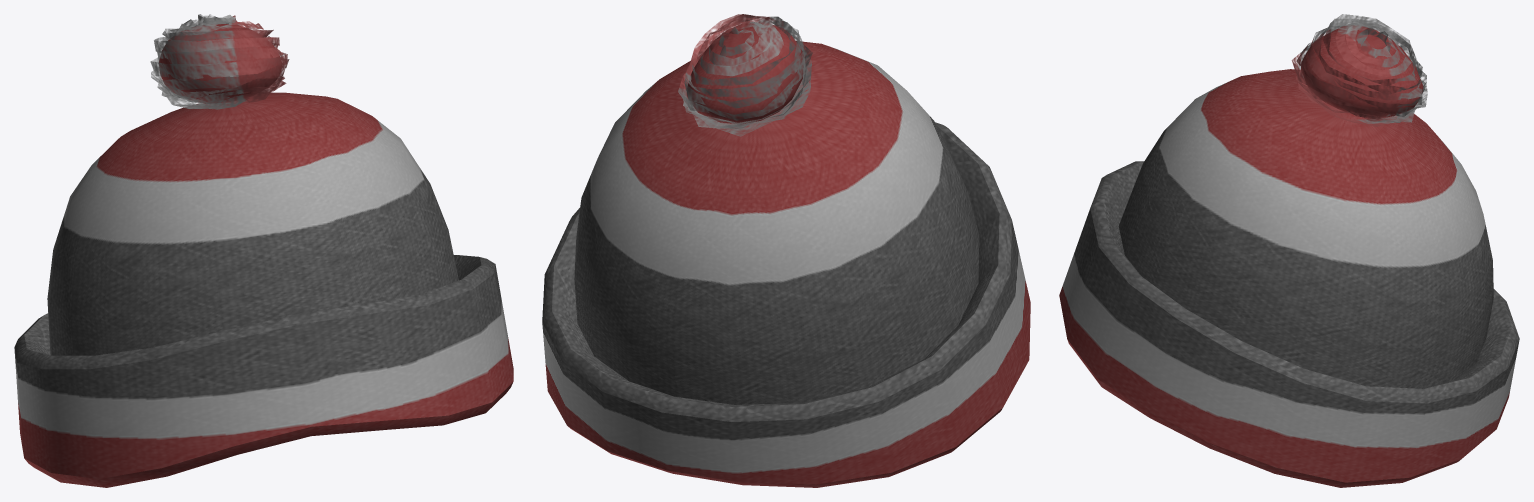
Rendered from better_beanie (1).glb.
3 views of the same model, side by side, from view 1: azimuth 30°, elevation 25°; view 2: azimuth 150°, elevation 25°; view 3: azimuth 270°, elevation 25° (orthographic). The views are drawn at different scales.
Visible parts, largest first — view 1: Cube; view 2: Cube; view 3: Cube.
Boxes of the visible parts, left/top/right/bottom form: Cube: left=14, top=14, right=513, bottom=487; Cube: left=542, top=14, right=1030, bottom=487; Cube: left=1059, top=14, right=1519, bottom=487.
Size of the model in its own units: 0.3697 by 0.3328 by 0.3672.
Materials: 2 (2 with a texture image).
